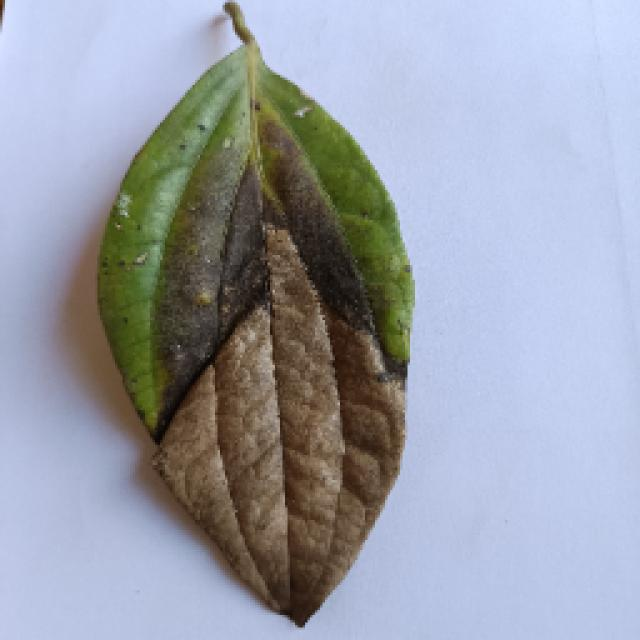footrot: (92, 15, 418, 617)
